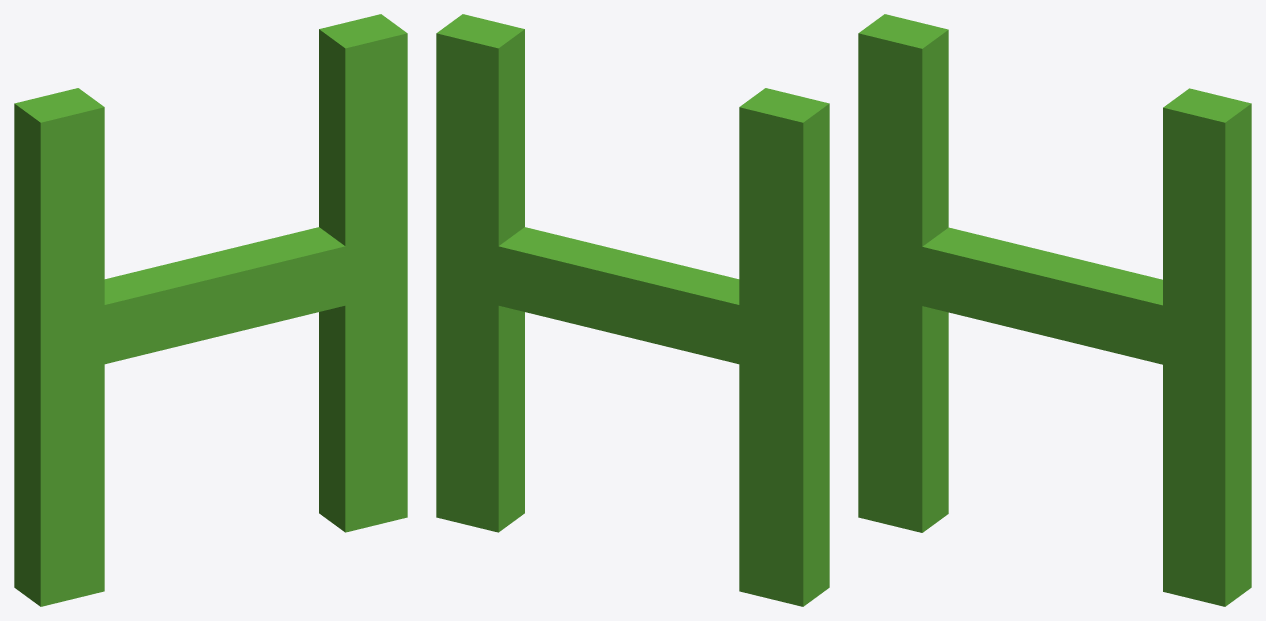
The model's file is letras.obj.
The picture shows the model from 3 angles, left to right: view 1: azimuth 30°, elevation 25°; view 2: azimuth 150°, elevation 25°; view 3: azimuth 330°, elevation 25°; orthographic projection.
Parts seen in each view (by area): view 1: H; view 2: H; view 3: H.
Part boxes in pixels (bbox=[...]): H: bbox=[14, 14, 407, 606]; H: bbox=[436, 14, 829, 606]; H: bbox=[858, 14, 1251, 606].
Bounding box in the file's own units: 0.803 × 1.01 × 0.1.
